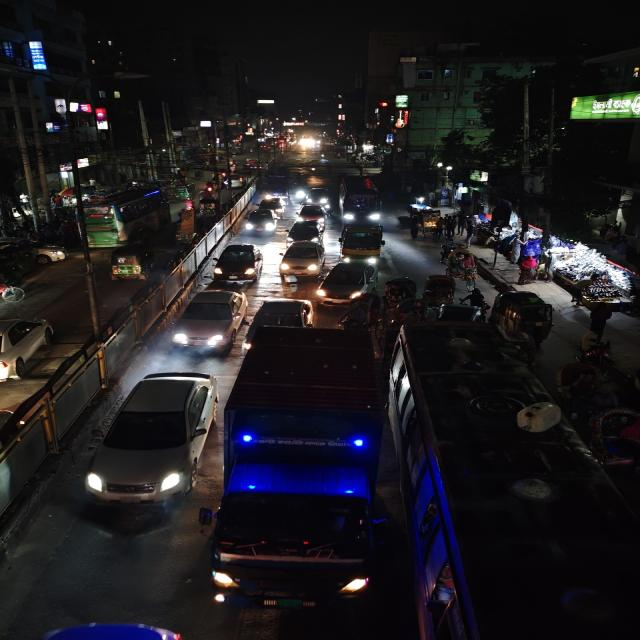bus: (390, 313, 640, 640), (77, 186, 172, 246), (338, 174, 383, 226)
car: (86, 366, 218, 512), (170, 284, 249, 354), (19, 617, 205, 640), (0, 314, 56, 386), (316, 259, 378, 306), (210, 241, 264, 283), (247, 296, 316, 328), (278, 240, 326, 276), (240, 208, 280, 238), (283, 221, 327, 245), (293, 204, 330, 224)
cng: (492, 289, 558, 340), (105, 241, 156, 285), (304, 185, 332, 208), (197, 195, 220, 216)
pickup_van: (337, 221, 389, 263)
rickshaw: (580, 405, 640, 477), (556, 361, 616, 411), (443, 248, 483, 287), (422, 273, 457, 315), (383, 276, 417, 316)
truck: (210, 322, 393, 612), (260, 174, 294, 204)
